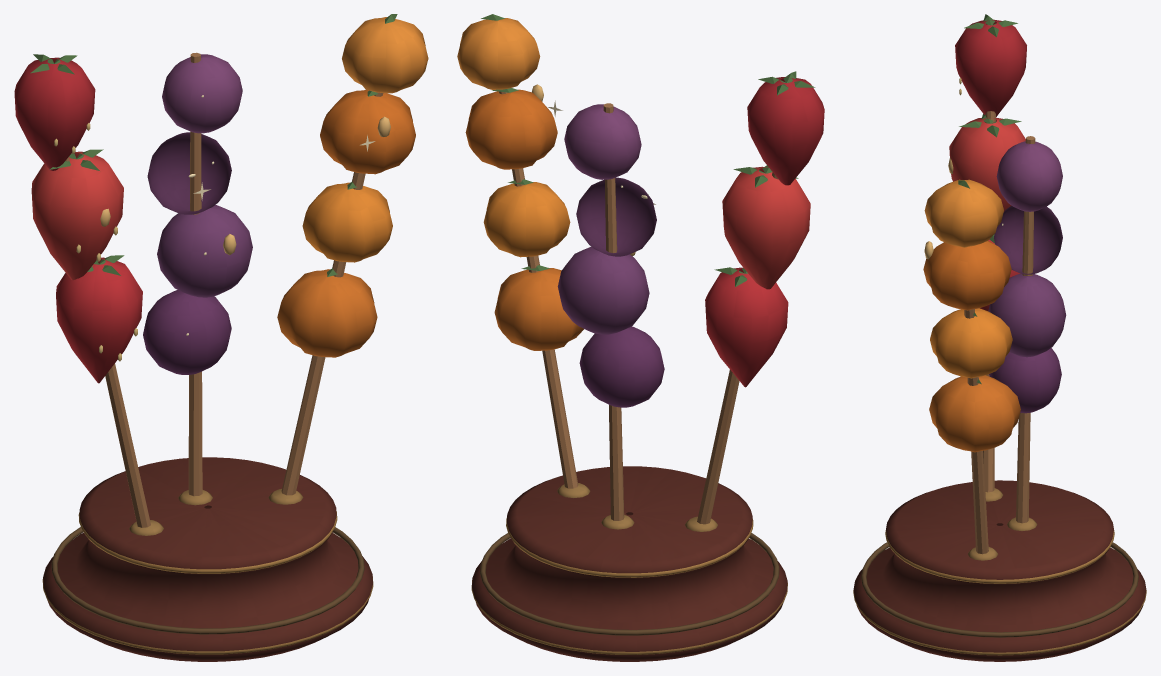
Rendered from tanghulu.glb.
3 renders of one model, left to right at view 1: azimuth 30°, elevation 25°; view 2: azimuth 150°, elevation 25°; view 3: azimuth 270°, elevation 25°, orthographic. The views are drawn at different scales.
Visible parts, largest first — view 1: Holder_oxblood_pedestal, Strawberry_02_pointed_fruit, Strawberry_01_pointed_fruit, Tangerine_01_ribbed_citrus, Grape_02_plump_fruit, Strawberry_03_pointed_fruit, Tangerine_03_ribbed_citrus, Grape_01_plump_fruit, Tangerine_02_ribbed_citrus, Tangerine_04_ribbed_citrus, Grape_04_plump_fruit, Grape_03_plump_fruit (+6 smaller); view 2: Holder_oxblood_pedestal, Strawberry_02_pointed_fruit, Strawberry_01_pointed_fruit, Grape_02_plump_fruit, Strawberry_03_pointed_fruit, Tangerine_03_ribbed_citrus, Grape_01_plump_fruit, Tangerine_01_ribbed_citrus, Tangerine_02_ribbed_citrus, Tangerine_04_ribbed_citrus, Grape_04_plump_fruit, Grape_03_plump_fruit (+6 smaller); view 3: Holder_oxblood_pedestal, Tangerine_01_ribbed_citrus, Strawberry_03_pointed_fruit, Tangerine_03_ribbed_citrus, Grape_02_plump_fruit, Tangerine_02_ribbed_citrus, Tangerine_04_ribbed_citrus, Grape_04_plump_fruit, Strawberry_02_pointed_fruit, Grape_03_plump_fruit, Grape_01_plump_fruit, Holder_recessed_bronze (+5 smaller).
Part boxes in pixels (x1,y1,x2,y2): Holder_oxblood_pedestal: [43, 457, 372, 661]; Strawberry_02_pointed_fruit: [31, 151, 123, 280]; Strawberry_01_pointed_fruit: [56, 257, 142, 383]; Tangerine_01_ribbed_citrus: [277, 269, 377, 357]; Grape_02_plump_fruit: [157, 205, 252, 297]; Strawberry_03_pointed_fruit: [14, 57, 95, 170]; Tangerine_03_ribbed_citrus: [320, 89, 415, 174]; Grape_01_plump_fruit: [143, 290, 231, 374]; Tangerine_02_ribbed_citrus: [302, 182, 392, 262]; Tangerine_04_ribbed_citrus: [342, 17, 428, 93]; Grape_04_plump_fruit: [162, 54, 242, 133]; Grape_03_plump_fruit: [147, 132, 231, 214]; Holder_oxblood_pedestal: [472, 466, 787, 661]; Strawberry_02_pointed_fruit: [722, 166, 810, 289]; Strawberry_01_pointed_fruit: [705, 267, 788, 387]; Grape_02_plump_fruit: [557, 246, 649, 334]; Strawberry_03_pointed_fruit: [747, 77, 824, 185]; Tangerine_03_ribbed_citrus: [465, 89, 557, 169]; Grape_01_plump_fruit: [579, 326, 664, 407]; Tangerine_01_ribbed_citrus: [494, 267, 583, 350]; Tangerine_02_ribbed_citrus: [483, 182, 570, 257]; Tangerine_04_ribbed_citrus: [457, 18, 540, 89]; Grape_04_plump_fruit: [564, 104, 641, 179]; Grape_03_plump_fruit: [576, 177, 656, 256]; Holder_oxblood_pedestal: [853, 480, 1146, 661]; Tangerine_01_ribbed_citrus: [929, 375, 1020, 452]; Strawberry_03_pointed_fruit: [955, 19, 1026, 116]; Tangerine_03_ribbed_citrus: [923, 240, 1011, 310]; Grape_02_plump_fruit: [988, 273, 1066, 357]; Tangerine_02_ribbed_citrus: [930, 308, 1012, 378]; Tangerine_04_ribbed_citrus: [924, 179, 1003, 247]; Grape_04_plump_fruit: [996, 141, 1062, 211]; Strawberry_02_pointed_fruit: [949, 117, 1025, 211]; Grape_03_plump_fruit: [994, 205, 1062, 274]; Grape_01_plump_fruit: [989, 348, 1061, 413]; Holder_recessed_bronze: [861, 542, 1138, 637].
Bounding box in the file's own units: 1.18 × 1.67 × 0.862.
